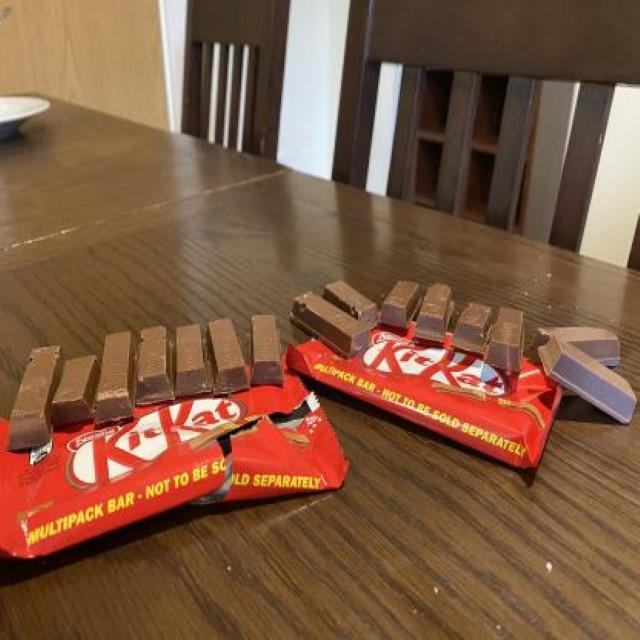kitkat_chocolate: (0, 362, 305, 575), (328, 313, 588, 465)
